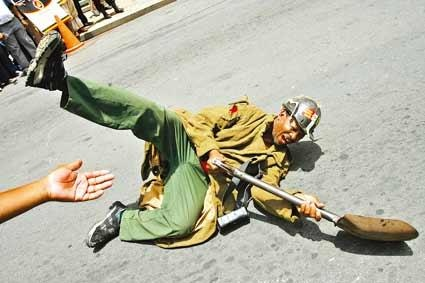falling: (36, 23, 344, 257)
